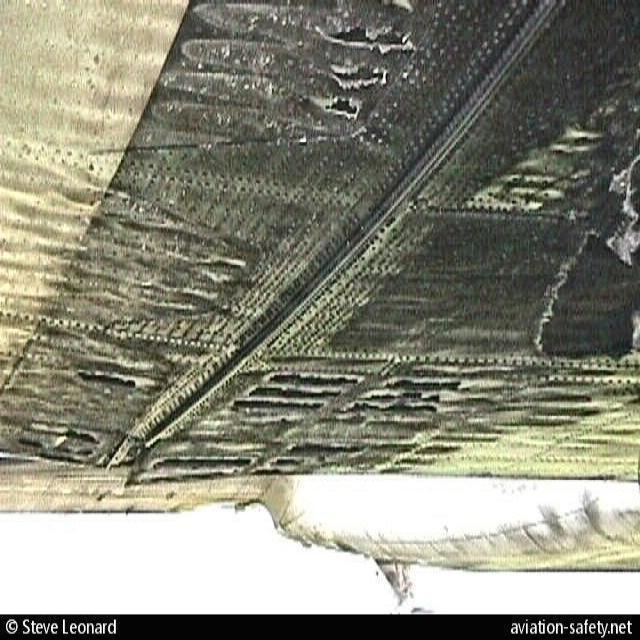crack: (303, 20, 424, 123)
